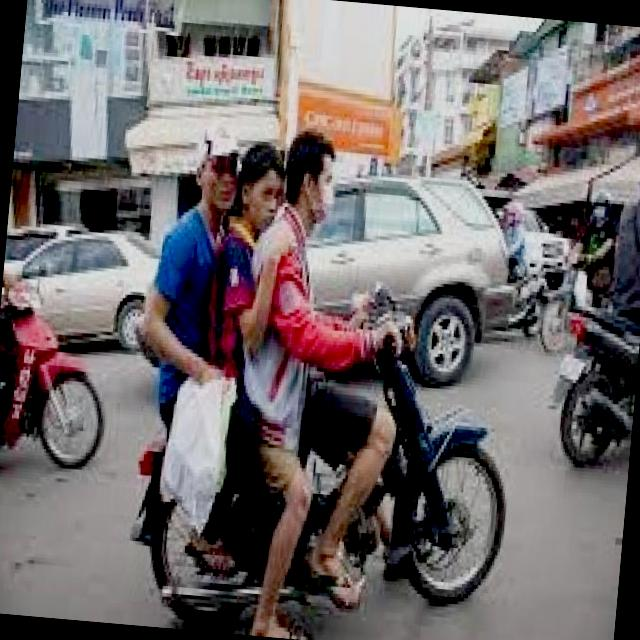motorcycle: (117, 271, 528, 640)
person: (179, 128, 318, 429), (238, 117, 368, 426), (138, 114, 258, 418)
rider_region: (112, 120, 540, 634)
